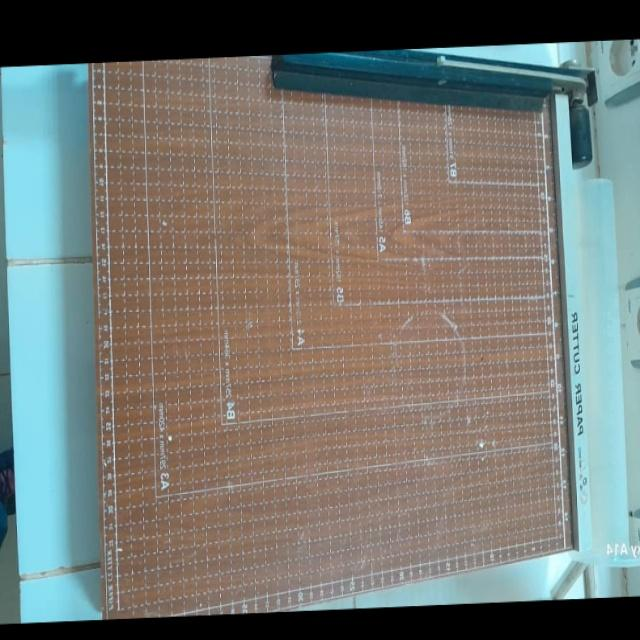TLC Cutter: (40, 41, 623, 604)
